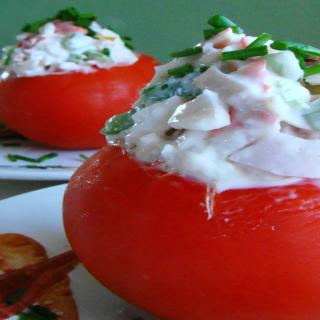tomato: (62, 144, 319, 320), (0, 5, 161, 152)
